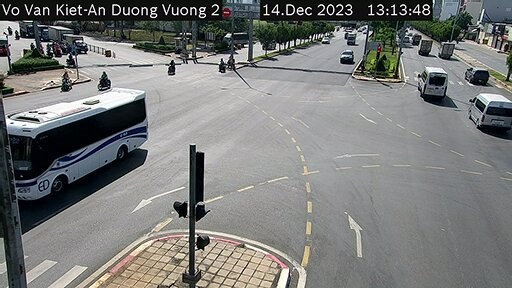car: (1, 88, 162, 191), (477, 91, 510, 131), (419, 65, 446, 104), (466, 62, 490, 89), (339, 50, 353, 63)
motorbike: (94, 71, 114, 89), (56, 72, 73, 91), (215, 56, 228, 74), (165, 58, 177, 76)
truck: (418, 39, 431, 59), (440, 41, 455, 56)
